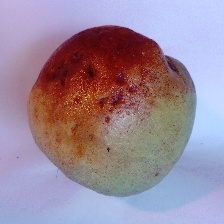guava: (26, 30, 161, 189)
